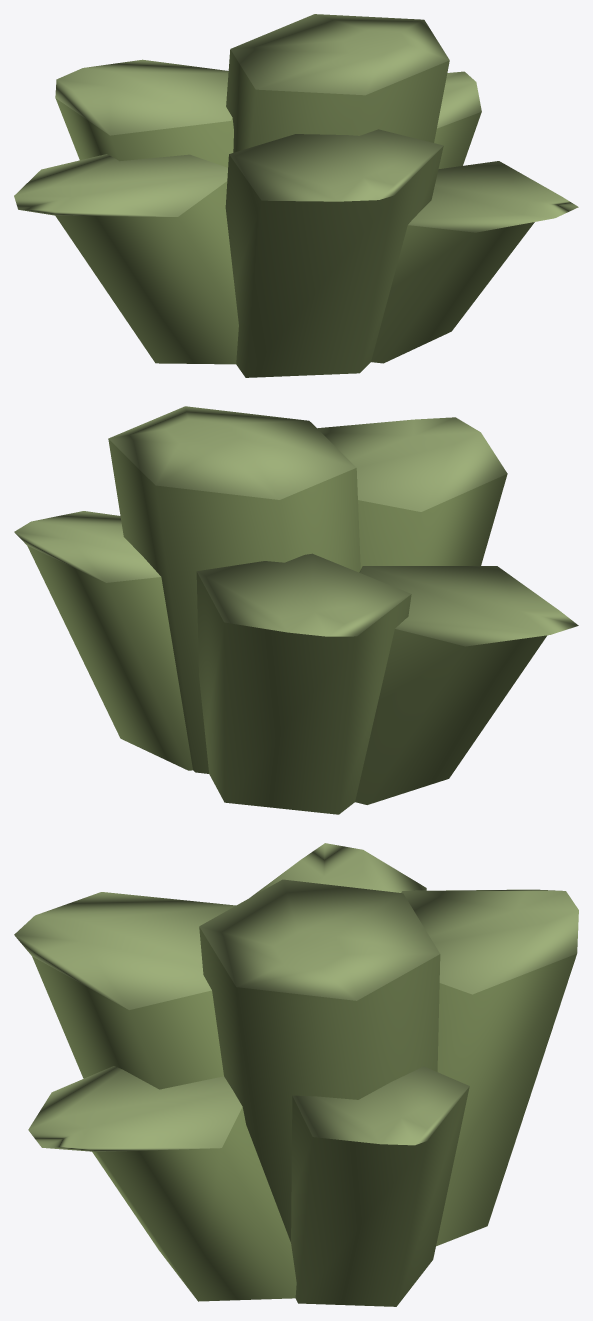
The model's file is gf_clump_01.glb.
3 renders of one model, top to bottom at view 1: azimuth 30°, elevation 25°; view 2: azimuth 150°, elevation 25°; view 3: azimuth 270°, elevation 25°, orthographic. The views are drawn at different scales.
Parts seen in each view (by area): view 1: gf_clump_01; view 2: gf_clump_01; view 3: gf_clump_01.
Boxes of the visible parts, x1,y1,x2,y2 form: gf_clump_01: [14, 14, 578, 377]; gf_clump_01: [14, 406, 578, 814]; gf_clump_01: [14, 843, 578, 1306].
Size of the model in its own units: 0.3629 by 0.19 by 0.2934.
